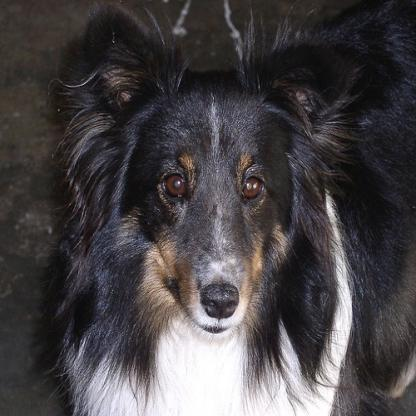Shetland_sheepdog: (45, 6, 413, 413)
